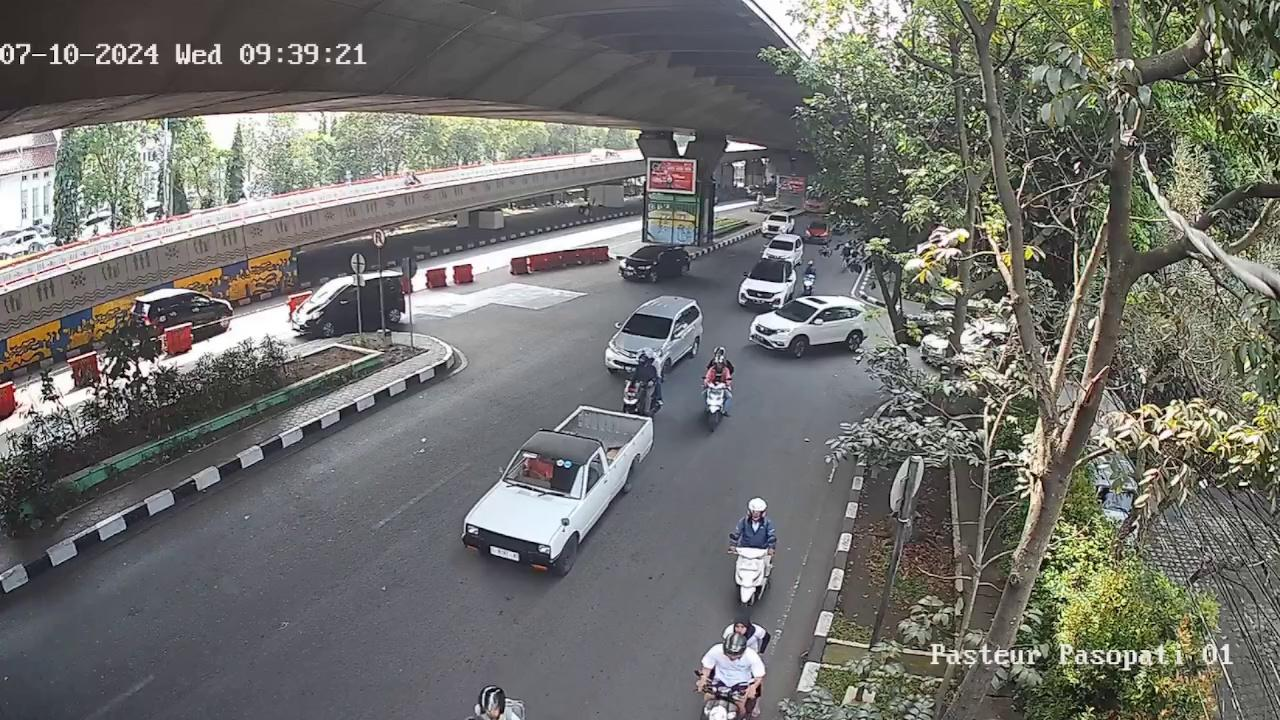tidak-pakai: (523, 457, 554, 486)
windshield: (505, 449, 588, 495), (623, 313, 673, 340), (774, 295, 817, 325), (750, 266, 785, 284)
